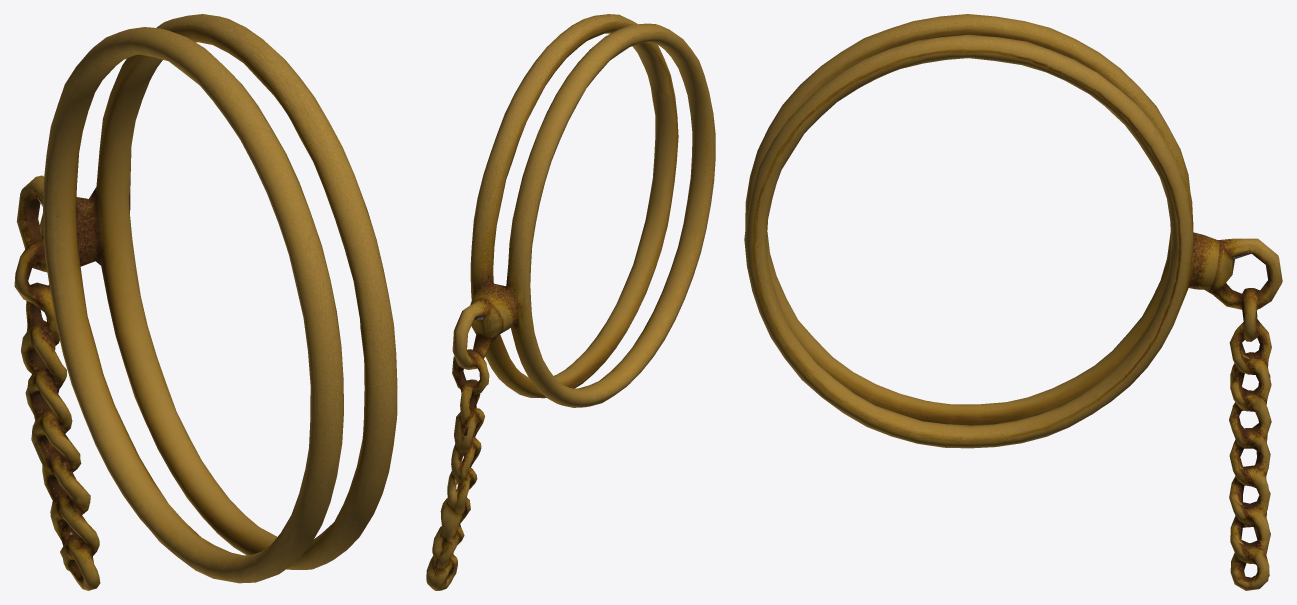
Rendered from tripo_convert_651f0033-cb33-449b-a9a7-4a2a6df0f38a.fbx.
3 renders of one model, left to right at view 1: azimuth 30°, elevation 25°; view 2: azimuth 150°, elevation 25°; view 3: azimuth 270°, elevation 25°, orthographic. The views are drawn at different scales.
Visible parts, largest first — view 1: tripo_node_651f0033; view 2: tripo_node_651f0033; view 3: tripo_node_651f0033.
Part boxes in pixels (x1,y1,x2,y2): tripo_node_651f0033: (14, 14, 397, 590); tripo_node_651f0033: (426, 14, 715, 590); tripo_node_651f0033: (744, 14, 1282, 590).
Size of the model in its own units: 0.1479 by 0.9918 by 0.8836.
Materials: 1 (1 with a texture image).
